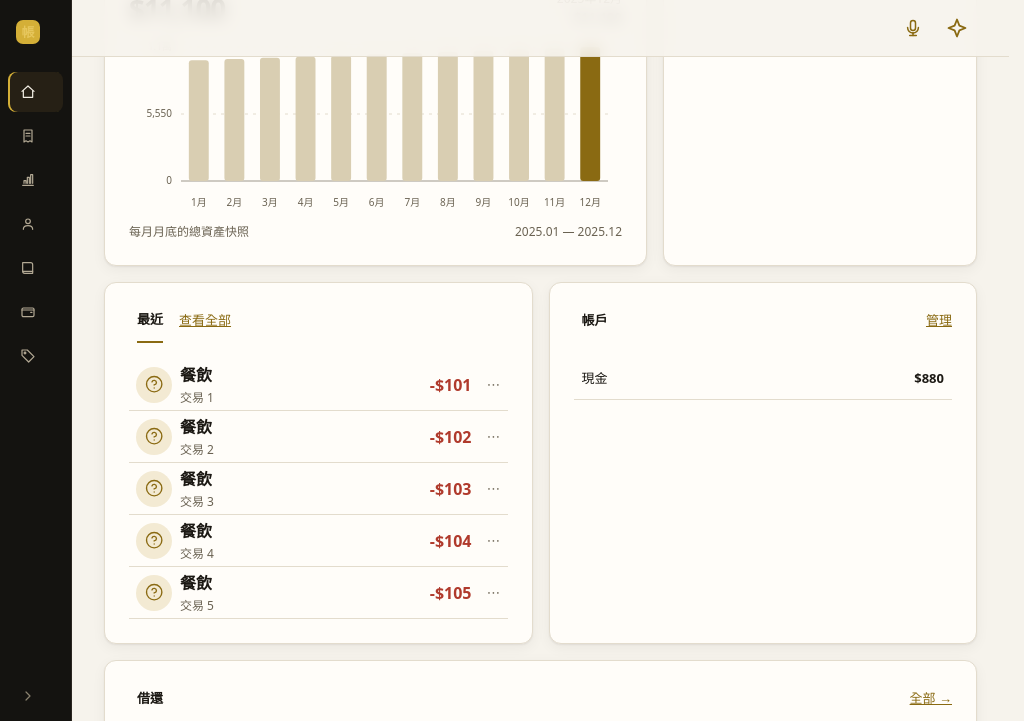
it: Home dashboard › shares the account query when the workbench form unmounts and mounts again
(page scrolled)
Click the button with aria-label "編輯". click: (266,385)
box: 180,359 -> 352,410
(page scrolled)
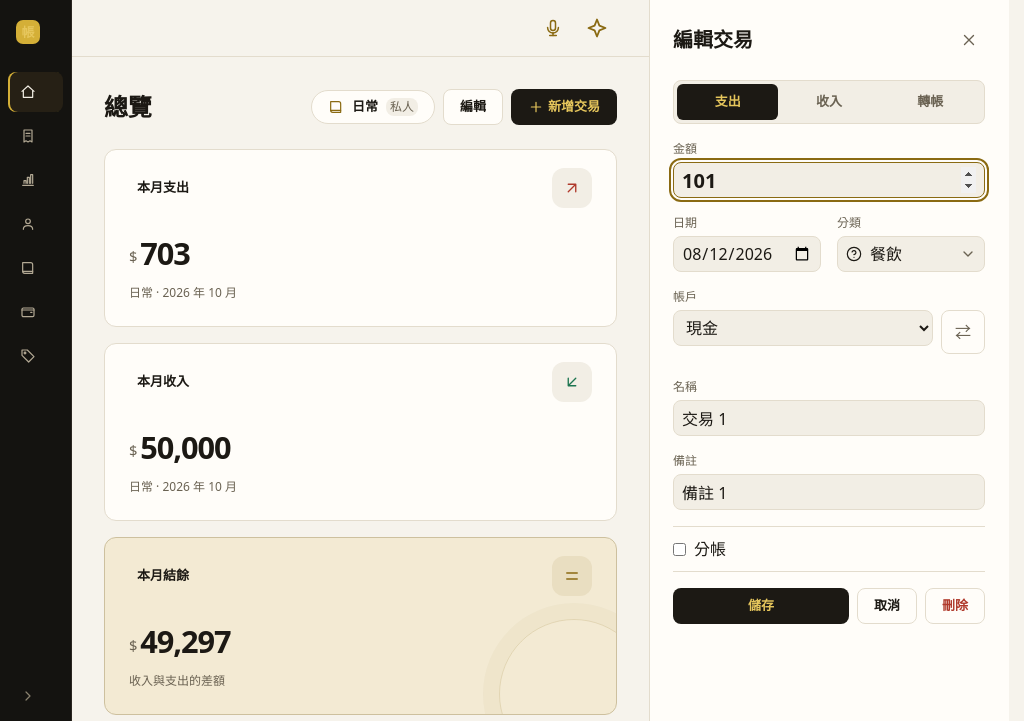
Now the dialog "編輯交易" is shown, box 673,24 -> 985,624
Click the button "新增交易". click: (564,107)
box: 511,89 -> 617,125
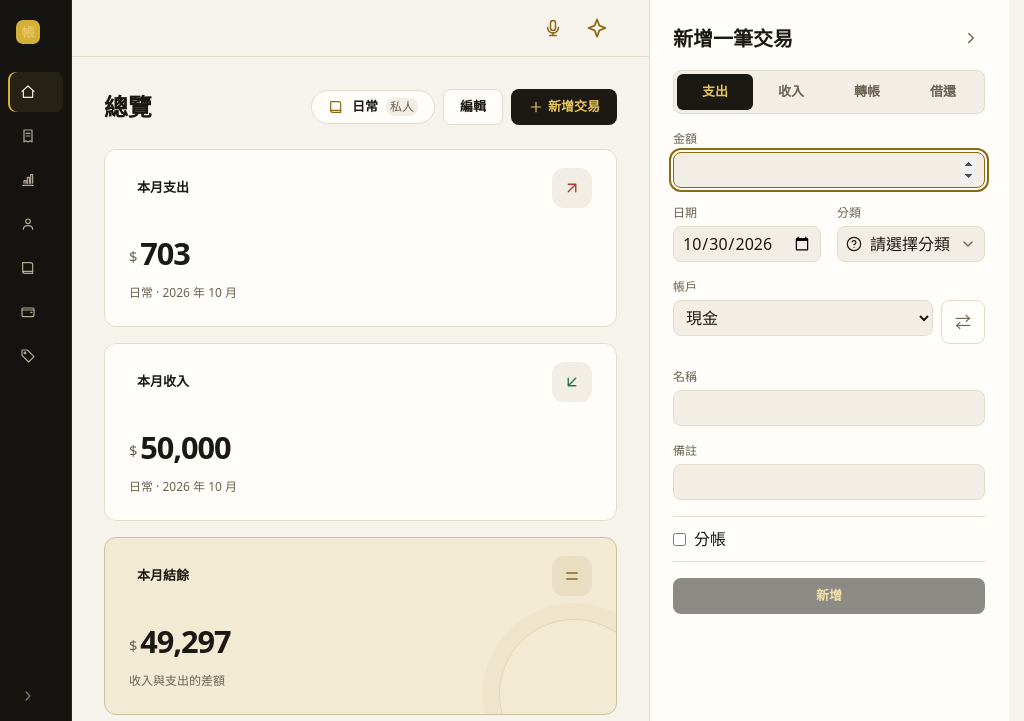
Now the element "新增一筆交易" is shown, box 673,24 -> 985,614
